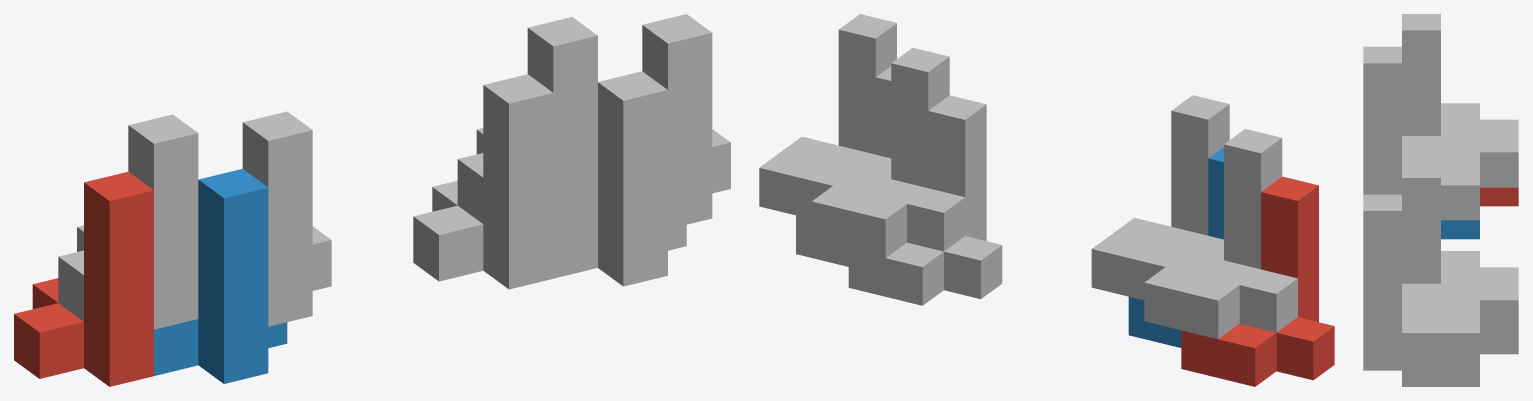
The model's file is tiling.obj.
3 renders of one model, left to right at view 1: azimuth 30°, elevation 25°; view 2: azimuth 150°, elevation 25°; view 3: azimuth 270°, elevation 25°, orthographic. The views are drawn at different scales.
Visible parts, largest first — view 1: copy_1_domain_5, copy_1_domain_1, copy_1_domain_2, copy_1_domain_6, copy_1_domain_7, copy_1_domain_3, copy_1_domain_4, copy_1_domain_8; view 2: copy_1_domain_7, copy_1_domain_3, copy_1_domain_5, copy_1_domain_1, copy_1_domain_4, copy_1_domain_8, copy_1_domain_6, copy_1_domain_2; view 3: copy_1_domain_8, copy_1_domain_4, copy_1_domain_7, copy_1_domain_3, copy_1_domain_6, copy_1_domain_1, copy_1_domain_2, copy_1_domain_5.
Boxes of the visible parts, <box> form: copy_1_domain_5: <box>413,74,553,289</box>; copy_1_domain_1: <box>14,171,153,386</box>; copy_1_domain_2: <box>154,168,287,383</box>; copy_1_domain_6: <box>553,71,686,286</box>; copy_1_domain_7: <box>457,17,597,232</box>; copy_1_domain_3: <box>58,114,198,329</box>; copy_1_domain_4: <box>242,111,331,326</box>; copy_1_domain_8: <box>642,14,730,229</box>; copy_1_domain_7: <box>811,47,965,257</box>; copy_1_domain_3: <box>1144,129,1297,338</box>; copy_1_domain_5: <box>848,95,1002,305</box>; copy_1_domain_1: <box>1181,176,1334,386</box>; copy_1_domain_4: <box>1091,95,1229,300</box>; copy_1_domain_8: <box>759,14,896,219</box>; copy_1_domain_6: <box>796,66,891,266</box>; copy_1_domain_2: <box>1128,147,1223,347</box>; copy_1_domain_8: <box>1363,194,1479,368</box>; copy_1_domain_4: <box>1363,46,1479,220</box>; copy_1_domain_7: <box>1402,161,1518,335</box>; copy_1_domain_3: <box>1402,14,1518,187</box>; copy_1_domain_6: <box>1363,351,1479,386</box>; copy_1_domain_1: <box>1480,187,1518,206</box>; copy_1_domain_2: <box>1441,220,1479,239</box>; copy_1_domain_5: <box>1480,335,1518,354</box>.
Size of the model in its own units: 15 by 5 by 4.
